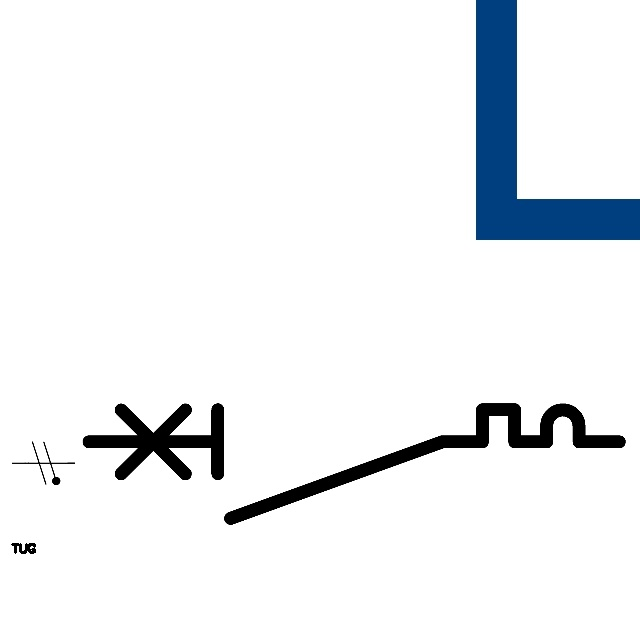interruptor_termomagnetico: (75, 396, 633, 532)
